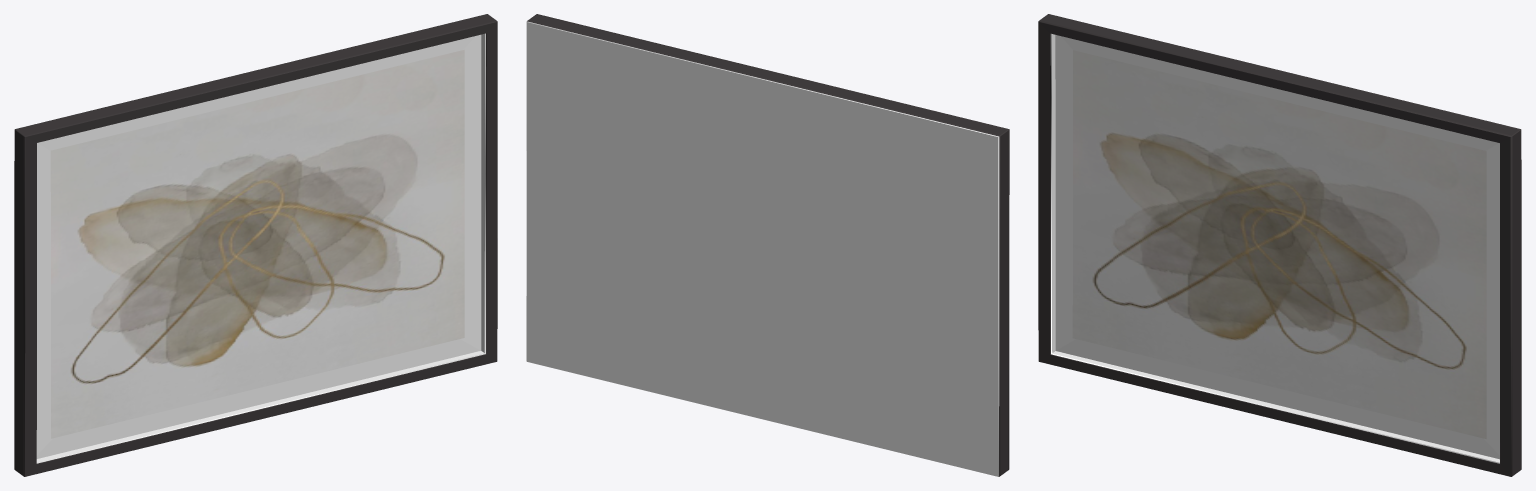
3 views of the same model, side by side, from view 1: azimuth 30°, elevation 25°; view 2: azimuth 150°, elevation 25°; view 3: azimuth 330°, elevation 25° (orthographic).
Visible parts, largest first — view 1: Acc_yh_0; view 2: Acc_yh_0; view 3: Acc_yh_0.
Part boxes in pixels (box(x1,y1,x2,y2)): Acc_yh_0: box(14, 14, 497, 476); Acc_yh_0: box(526, 14, 1009, 476); Acc_yh_0: box(1038, 14, 1521, 476).
Bounding box in the file's own units: 0.88 × 0.6055 × 0.0356.
Materials: 1 (1 with a texture image).
